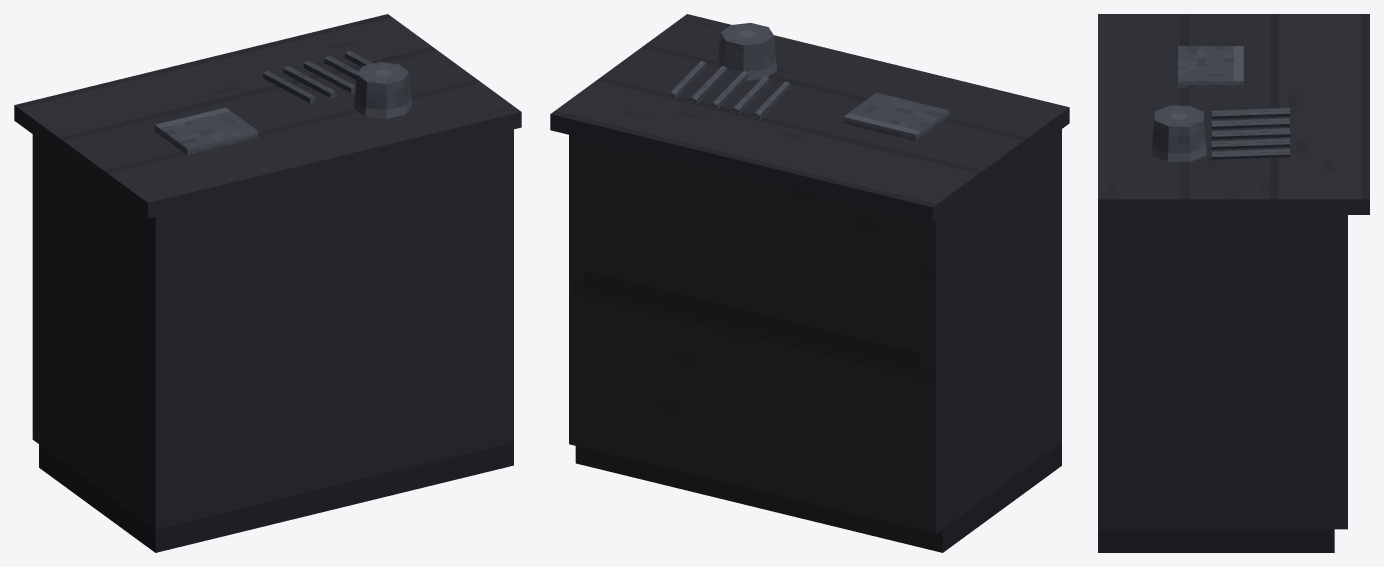
Rendered from f_vitrified_counter.glb.
3 views of the same model, side by side, from view 1: azimuth 30°, elevation 25°; view 2: azimuth 150°, elevation 25°; view 3: azimuth 270°, elevation 25° (orthographic). The views are drawn at different scales.
Parts seen in each view (by area): view 1: block_base, block_top, block_plinth, block_fused-paper-and-notes, block_fused-glass-cup; view 2: block_base, block_top, block_plinth, block_fused-paper-and-notes, block_fused-glass-cup; view 3: block_base, block_top, block_plinth, block_fused-utensils-1 (×5), block_fused-glass-cup, block_fused-paper-and-notes.
Boxes of the visible parts, x1,y1,x2,y2 form: block_base: (32,129,513,529); block_top: (14,14,521,218); block_plinth: (39,442,513,552); block_fused-paper-and-notes: (155,107,258,154); block_fused-glass-cup: (354,62,411,118); block_base: (569,129,1061,533); block_top: (550,14,1069,223); block_plinth: (575,442,1061,552); block_fused-paper-and-notes: (843,92,949,141); block_fused-glass-cup: (717,23,776,80); block_base: (1098,215,1347,529); block_top: (1098,14,1369,214); block_plinth: (1098,529,1334,552); block_fused-utensils-1 (×5): (1210,107,1290,159); block_fused-glass-cup: (1151,105,1206,161); block_fused-paper-and-notes: (1178,46,1243,87).
Size of the model in its own units: 1 by 0.986 by 0.62.
2 materials, 2 textured.
